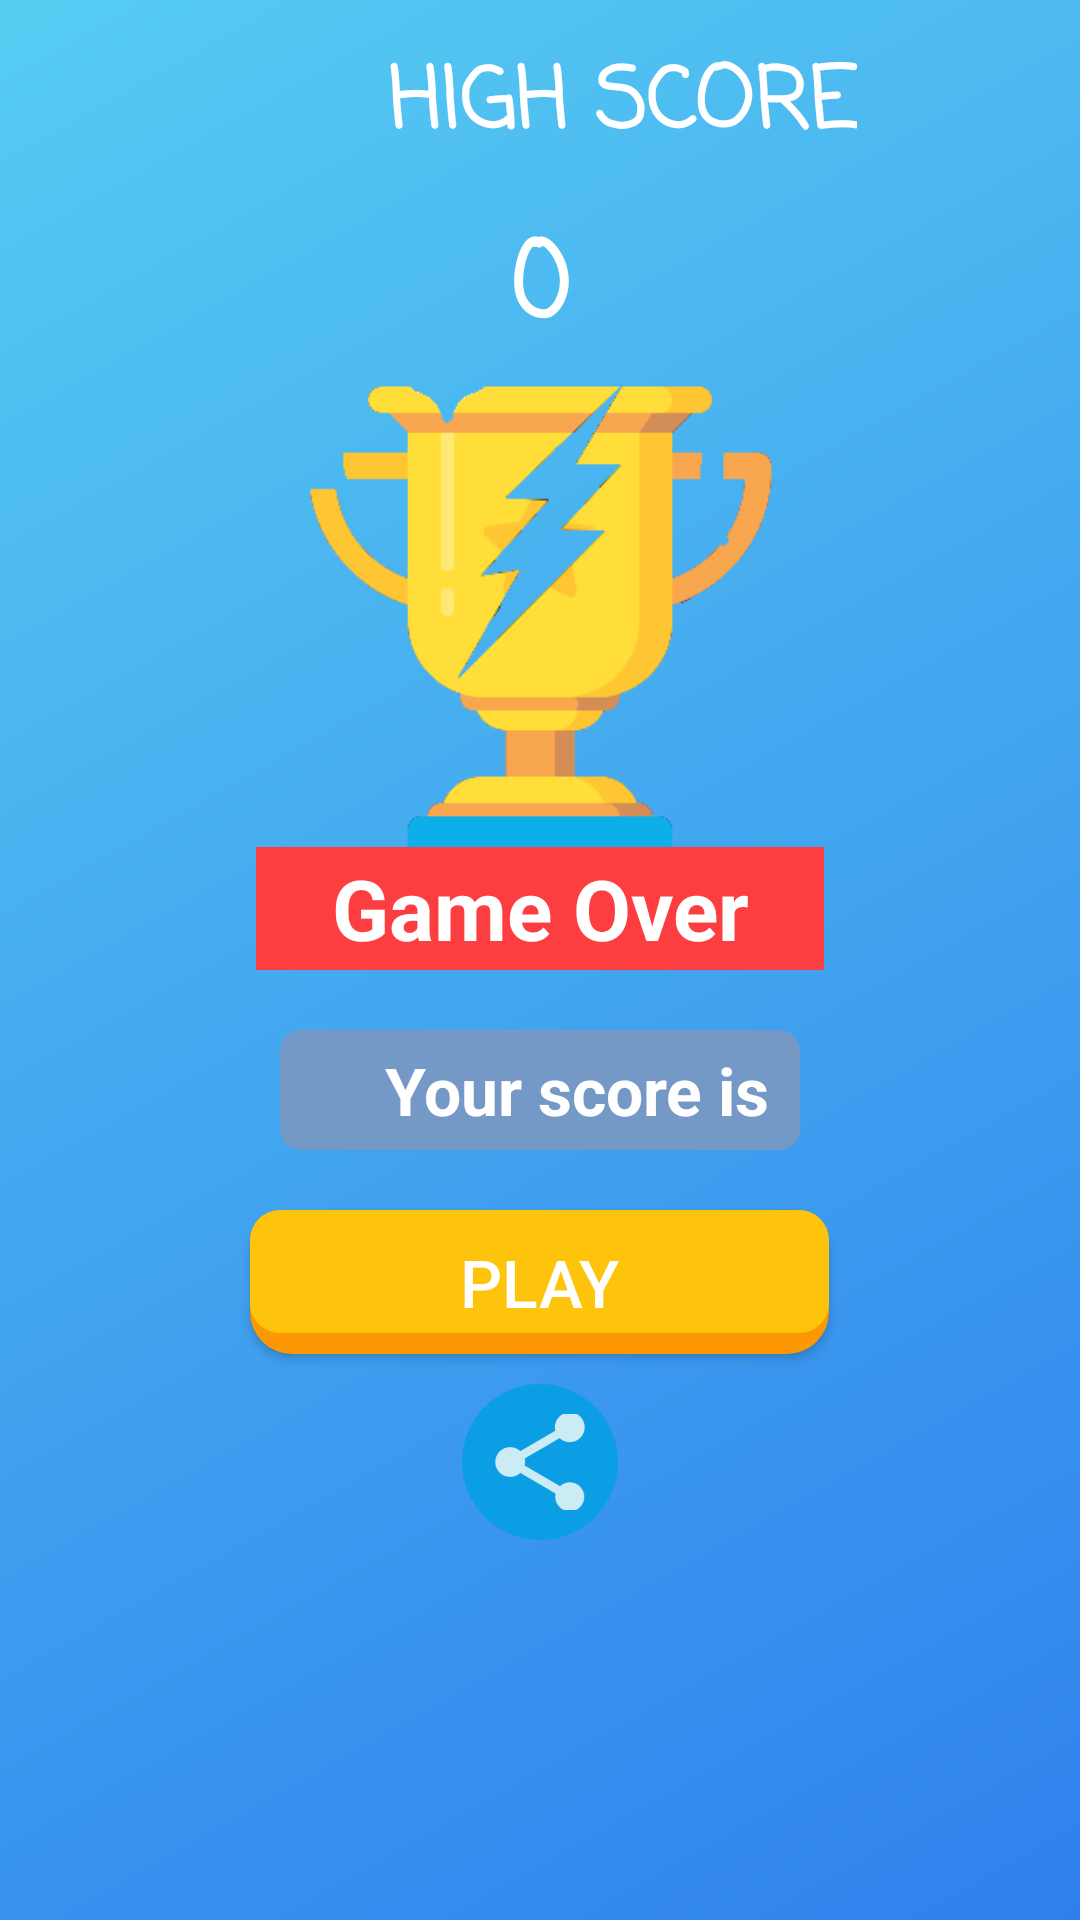

Where to tap for icons on this 1080 × 1920 app screen, as point (x, y):
share: point (540, 1462)
